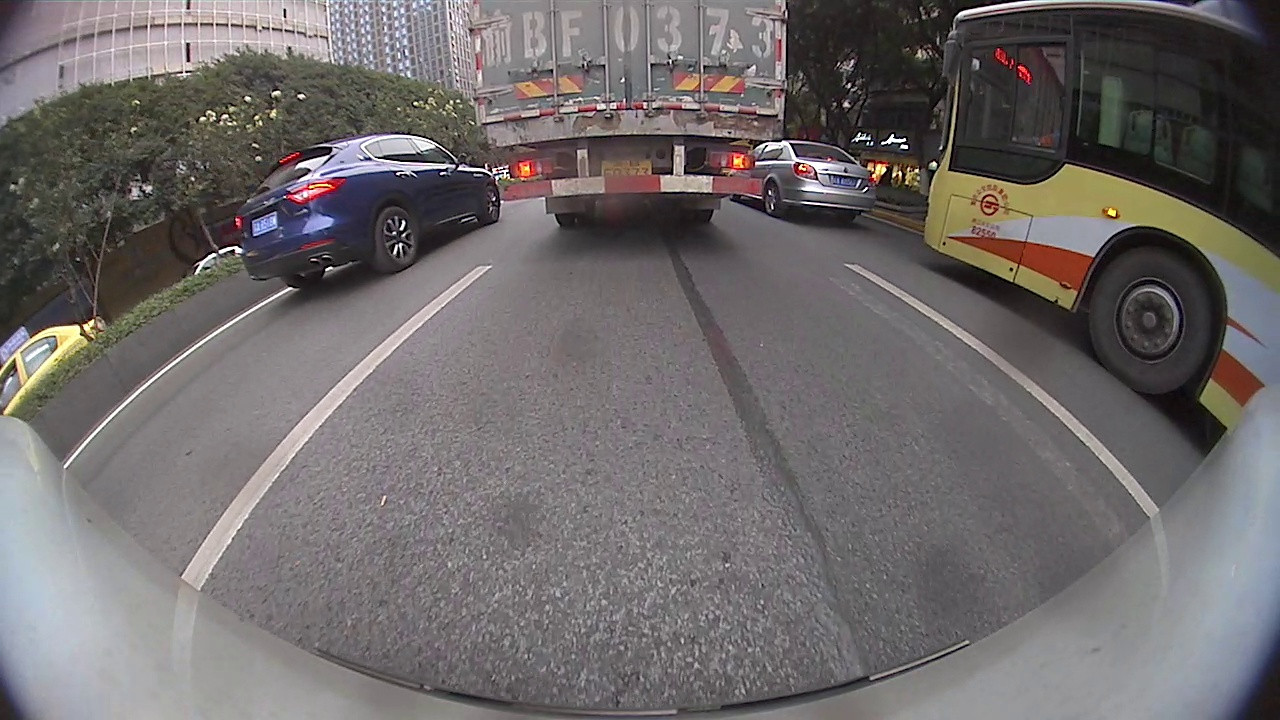bus: (923, 2, 1279, 428)
car: (227, 130, 504, 288), (733, 142, 876, 227)
front: (1084, 243, 1216, 397), (478, 182, 501, 225)
rear: (371, 204, 420, 278), (763, 180, 786, 219)
truck: (467, 2, 788, 230)
